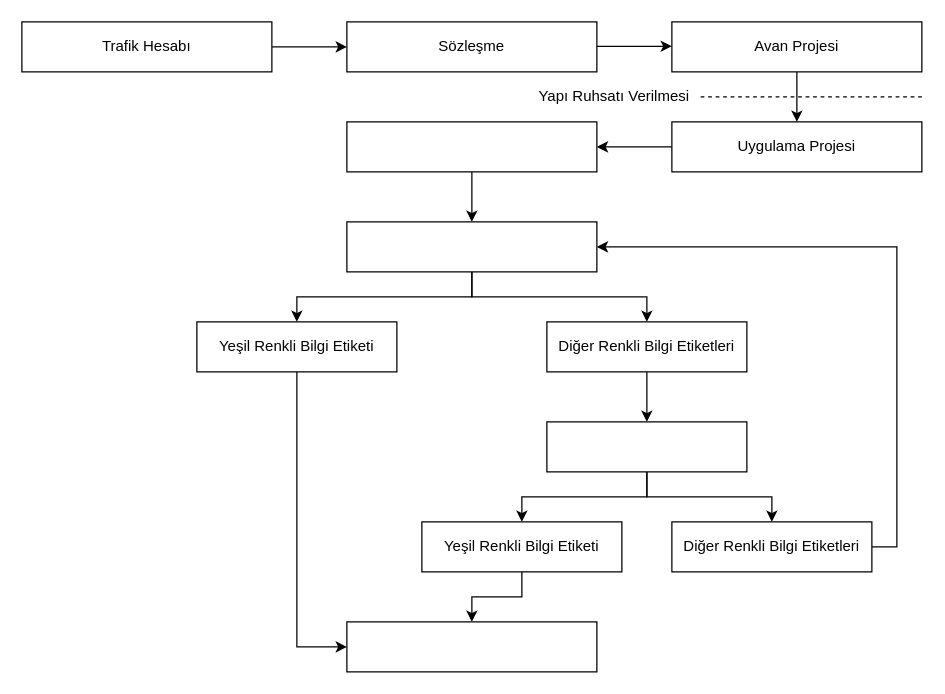
This 945x694 diagram has some shape labels left out. The box of each missing label's shape, as (x1, y1, x2, y2) in pixels:
İlk Periyodik Kontrol: (346, 221, 597, 272)
Montaj İşlemleri: (346, 121, 597, 172)
Takip Kontrolü: (546, 421, 747, 472)
Tescil: (346, 621, 597, 672)
